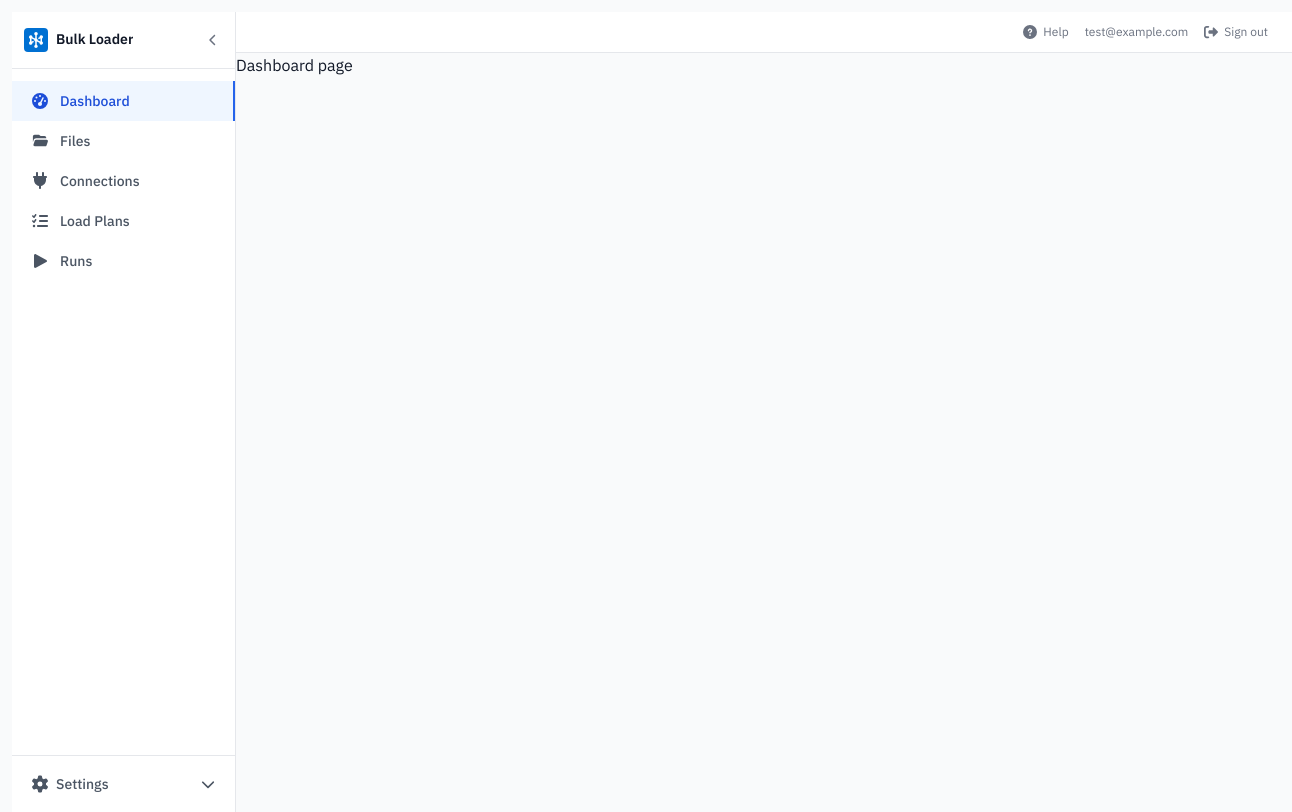
Test: AppShell › collapsible sidebar › restores nav labels when expanded again
The image size is (1292, 812).
Click the button named "collapse sidebar" at (213, 40), box [203,30,223,50]
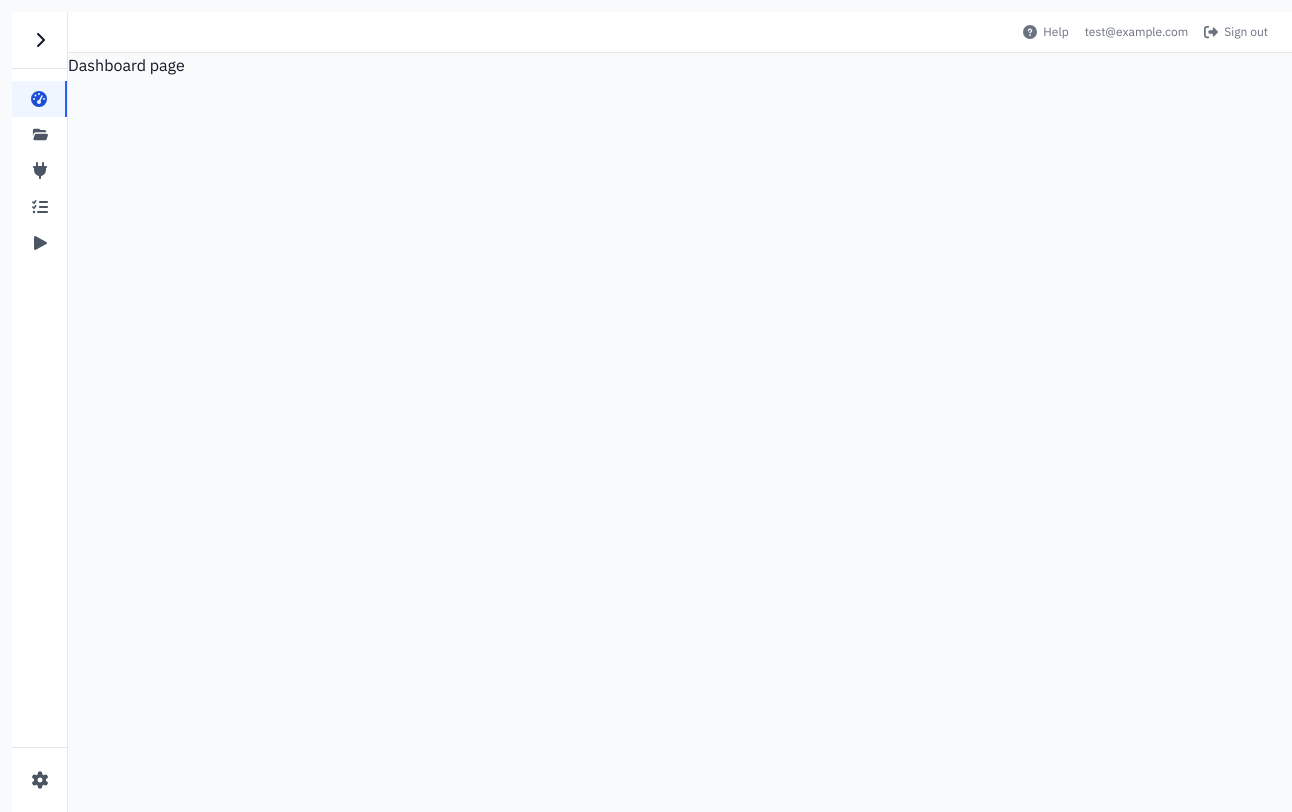
Click the button named "expand sidebar" at (40, 40), box [12,12,67,69]
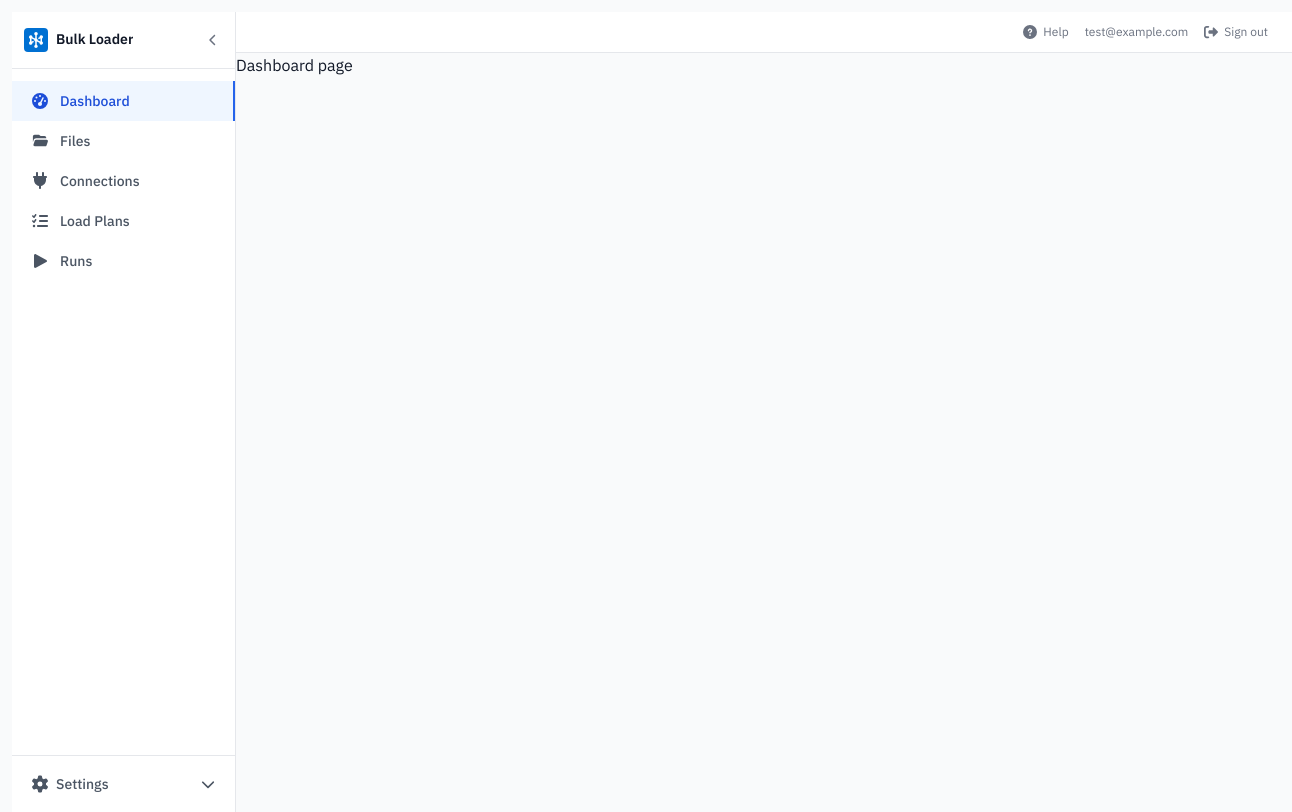
Expected: the link "Dashboard" is shown, [12,81,235,121]
Expected: the text "Bulk Loader" is shown, [56,31,133,49]
